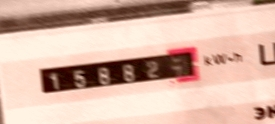1: (46, 70, 60, 90)
2: (144, 59, 158, 79)
5: (71, 68, 85, 89)
7: (170, 64, 182, 79)
8: (96, 64, 110, 87), (121, 62, 135, 84)
screen: (30, 40, 208, 103)
